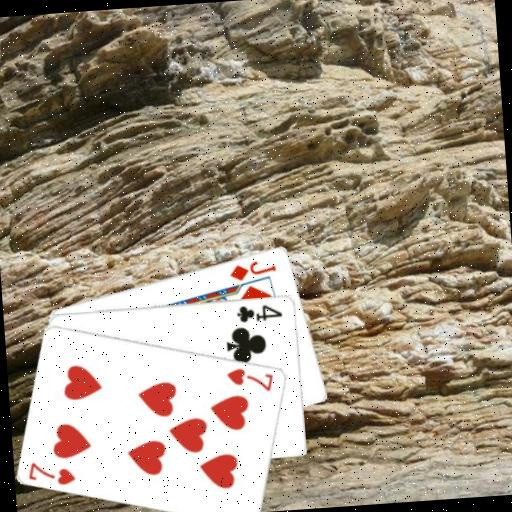4C: (234, 300, 285, 324)
7H: (24, 456, 78, 489), (223, 363, 276, 396)
JD: (226, 256, 279, 283)
